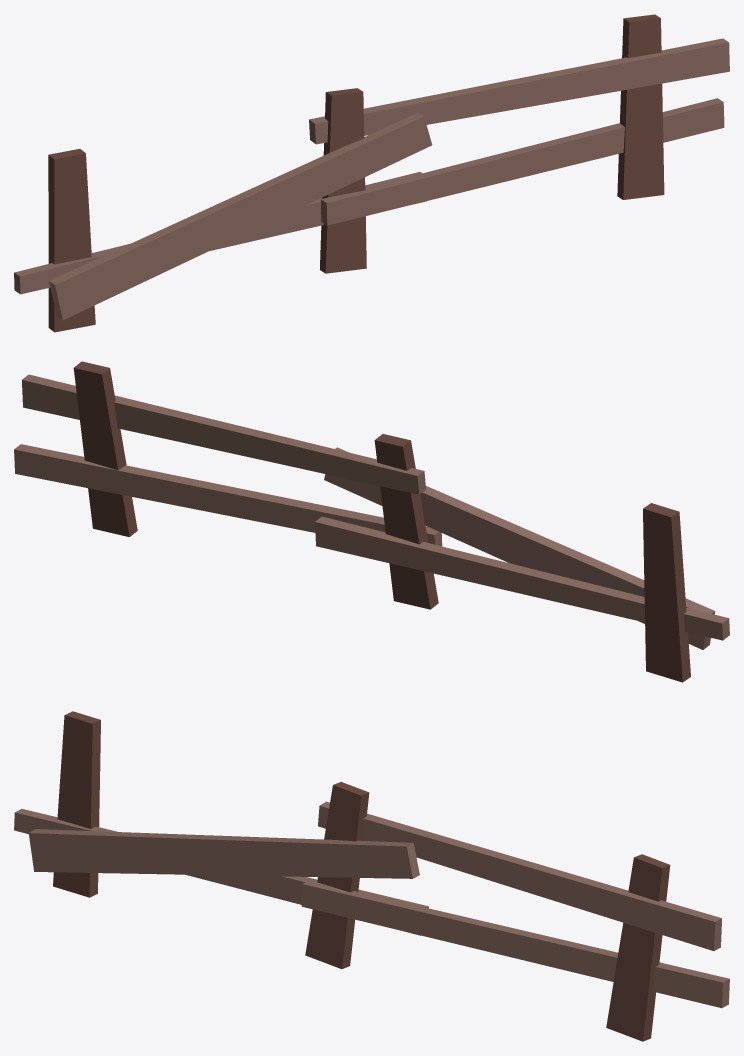
Rendered from props_032.glb.
3 views of the same model, one above another, from view 1: azimuth 30°, elevation 25°; view 2: azimuth 150°, elevation 25°; view 3: azimuth 330°, elevation 25° (orthographic).
Visible parts, largest first — view 1: props_032; view 2: props_032; view 3: props_032.
Part boxes in pixels (x1,y1,x2,y2): props_032: (14,14,729,332); props_032: (14,361,729,682); props_032: (14,711,729,1041).
Size of the model in its own units: 9.62 by 2.22 by 0.626.
1 material, 1 textured.
